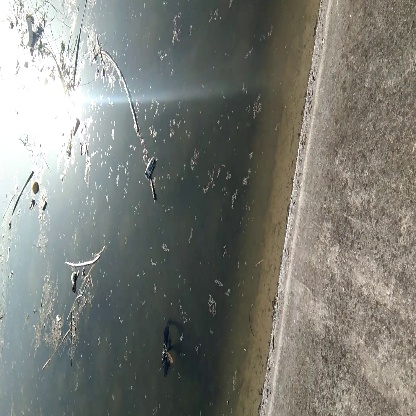branch: (96, 48, 141, 134), (65, 243, 113, 273), (12, 167, 34, 218)
milk-box: (141, 152, 159, 180)
